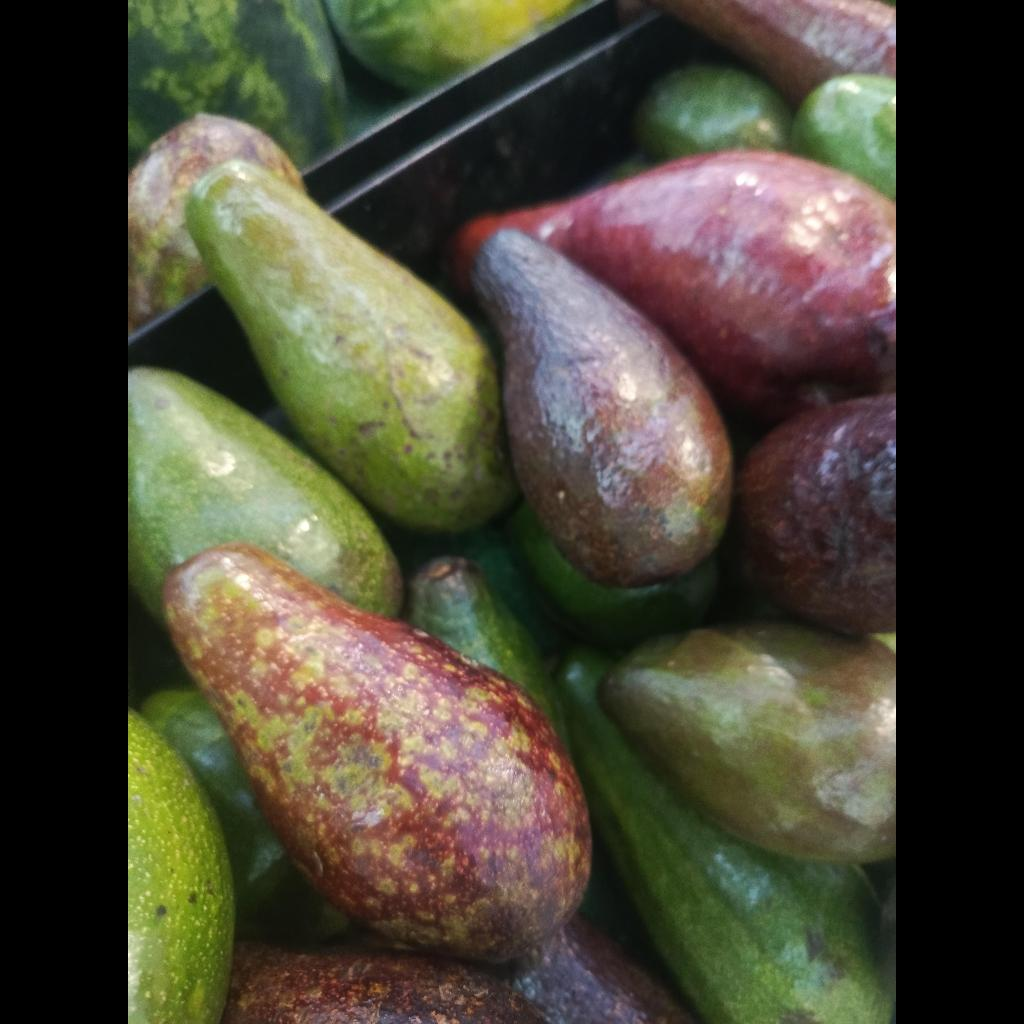anthracnose: (166, 546, 590, 961), (187, 161, 517, 532), (737, 395, 896, 632), (221, 942, 546, 1024)
healthy: (472, 230, 732, 588), (600, 621, 896, 862), (128, 368, 402, 623), (128, 709, 235, 1024)
